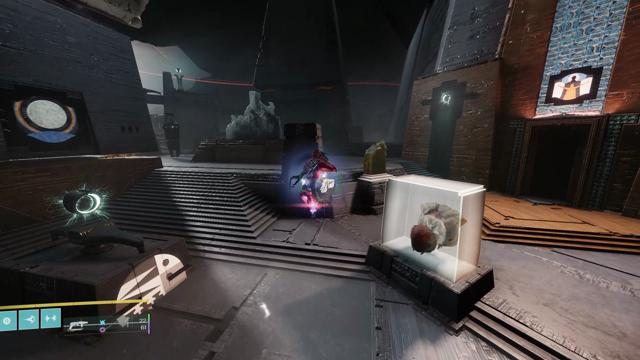traveler: (12, 95, 81, 143)
